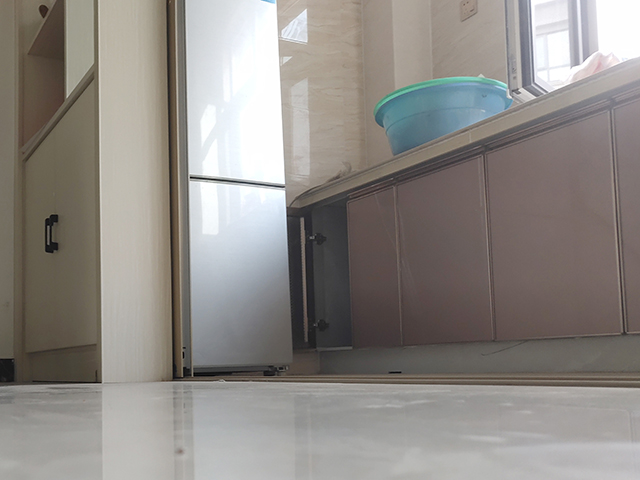cabinet: (334, 72, 640, 377), (10, 66, 169, 385)
